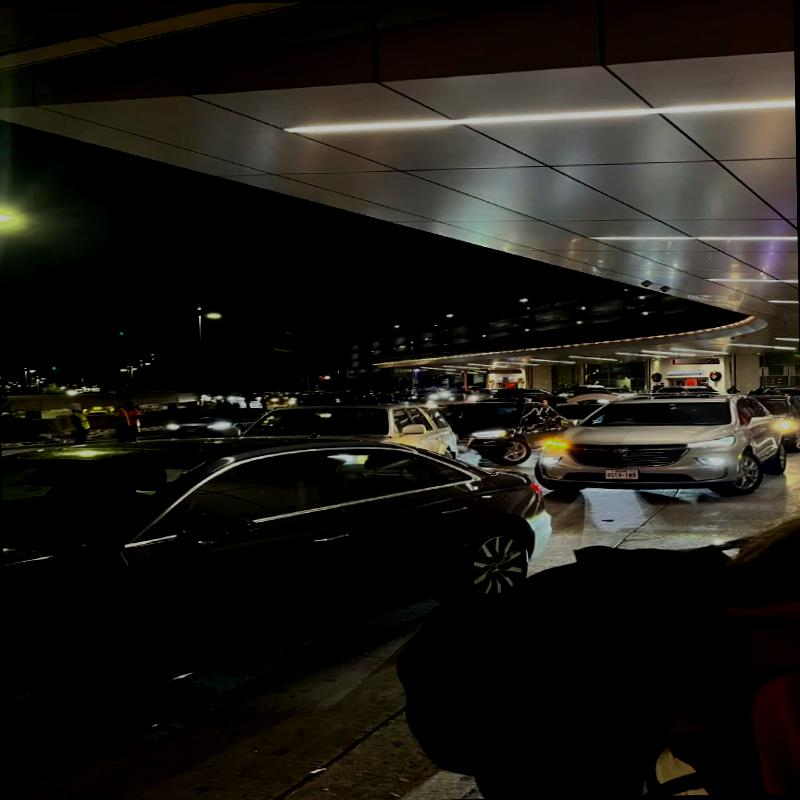license plate on a car: (605, 469, 637, 480), (184, 427, 196, 433)
